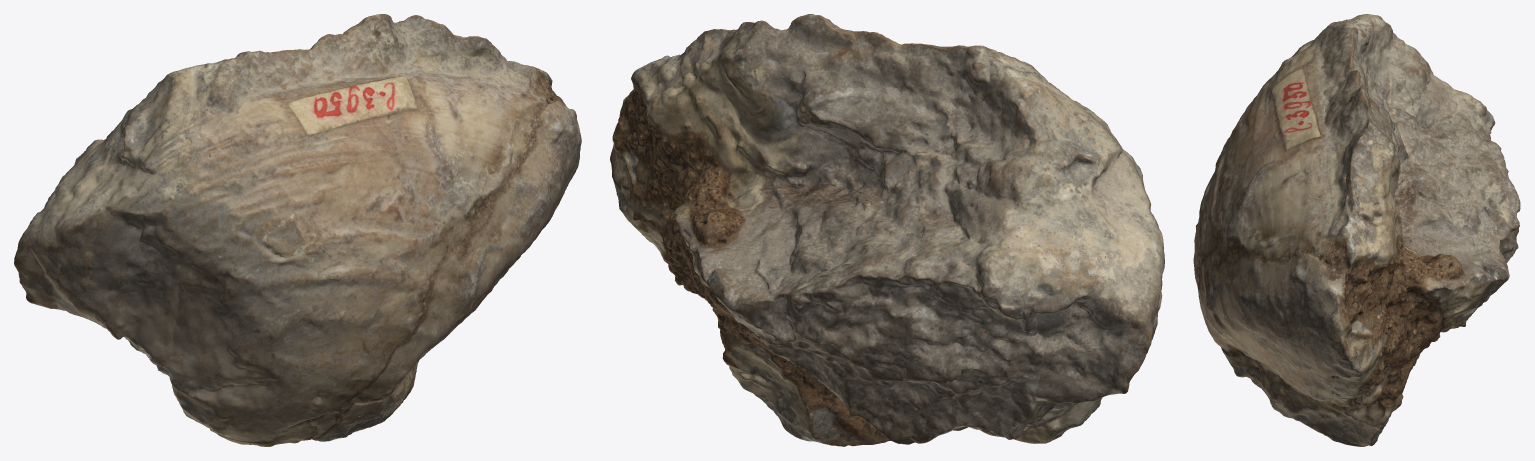
Rendered from EWS0014145.glb.
3 views of the same model, side by side, from view 1: azimuth 30°, elevation 25°; view 2: azimuth 150°, elevation 25°; view 3: azimuth 270°, elevation 25° (orthographic). The views are drawn at different scales.
Parts seen in each view (by area): view 1: input; view 2: input; view 3: input.
Part boxes in pixels (left/top/right/bottom): input: left=14, top=14, right=581, bottom=446; input: left=610, top=14, right=1164, bottom=446; input: left=1193, top=14, right=1520, bottom=446.
Bounding box in the file's own units: 0.0907 × 0.063 × 0.0527.
1 material, 1 textured.
